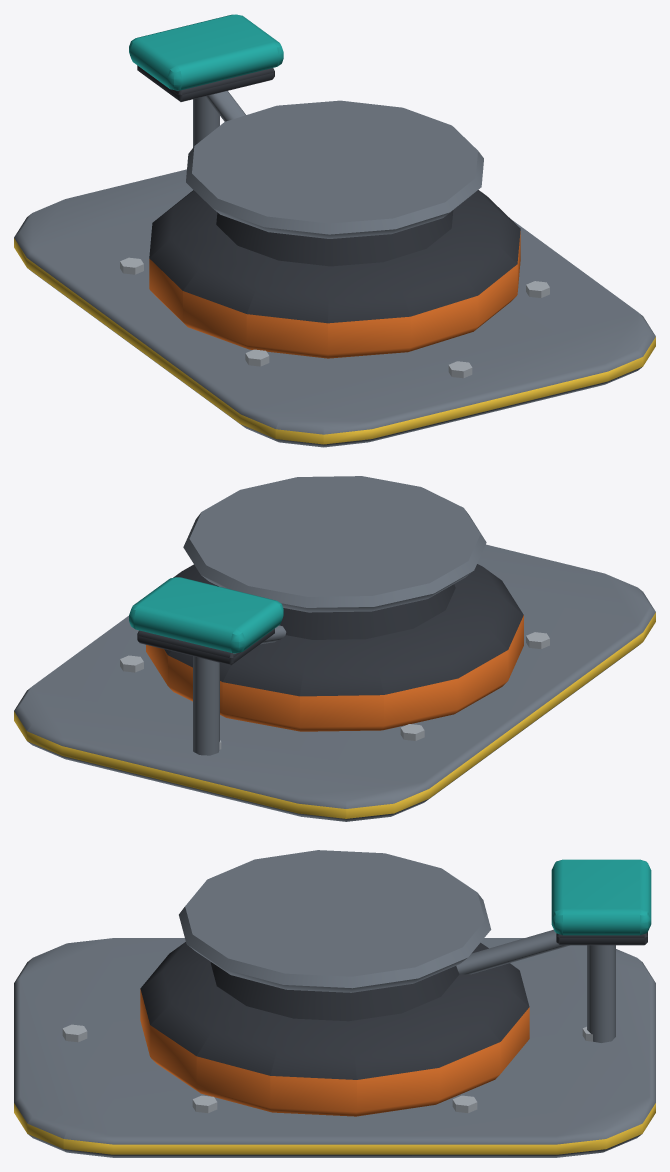
The model's file is Torreta.fbx.
3 renders of one model, top to bottom at view 1: azimuth 30°, elevation 25°; view 2: azimuth 150°, elevation 25°; view 3: azimuth 270°, elevation 25°, orthographic. The views are drawn at different scales.
Visible parts, largest first — view 1: Torreta; view 2: Torreta; view 3: Torreta.
Part boxes in pixels (x1=…): Torreta: x1=14, y1=14, x2=655, y2=447; Torreta: x1=14, y1=476, x2=655, y2=821; Torreta: x1=14, y1=850, x2=655, y2=1157.
Bounding box in the file's own units: 3 × 1.2 × 4.
1 material, 1 textured.
